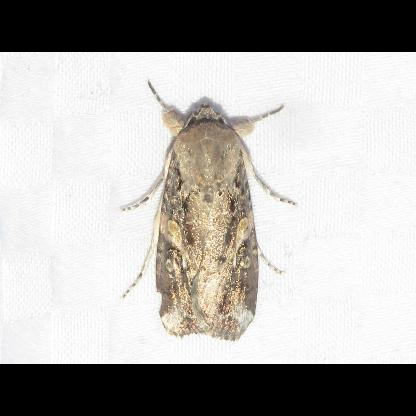Fall Armyworm Moth: (118, 76, 300, 346)
